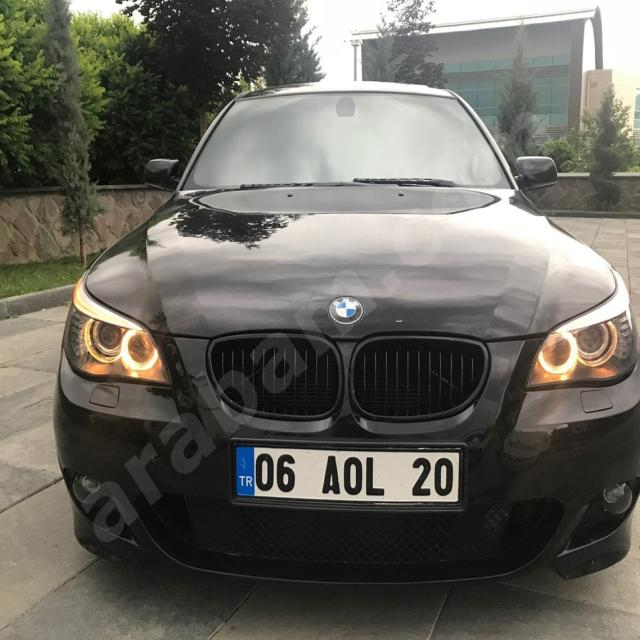license_plate: (234, 444, 462, 502)
